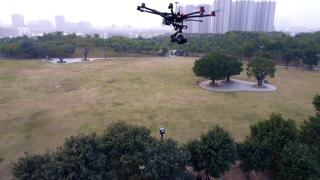UAV: (137, 2, 218, 45)
